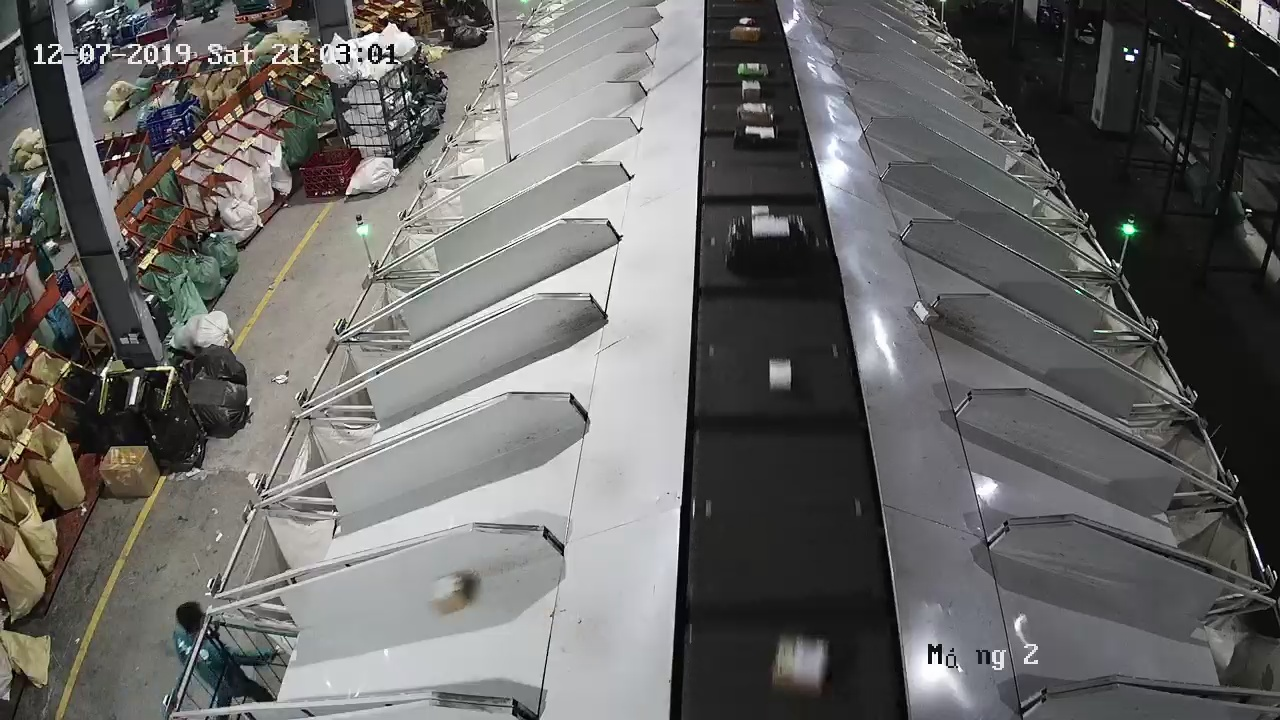parcel: (425, 570, 470, 616)
